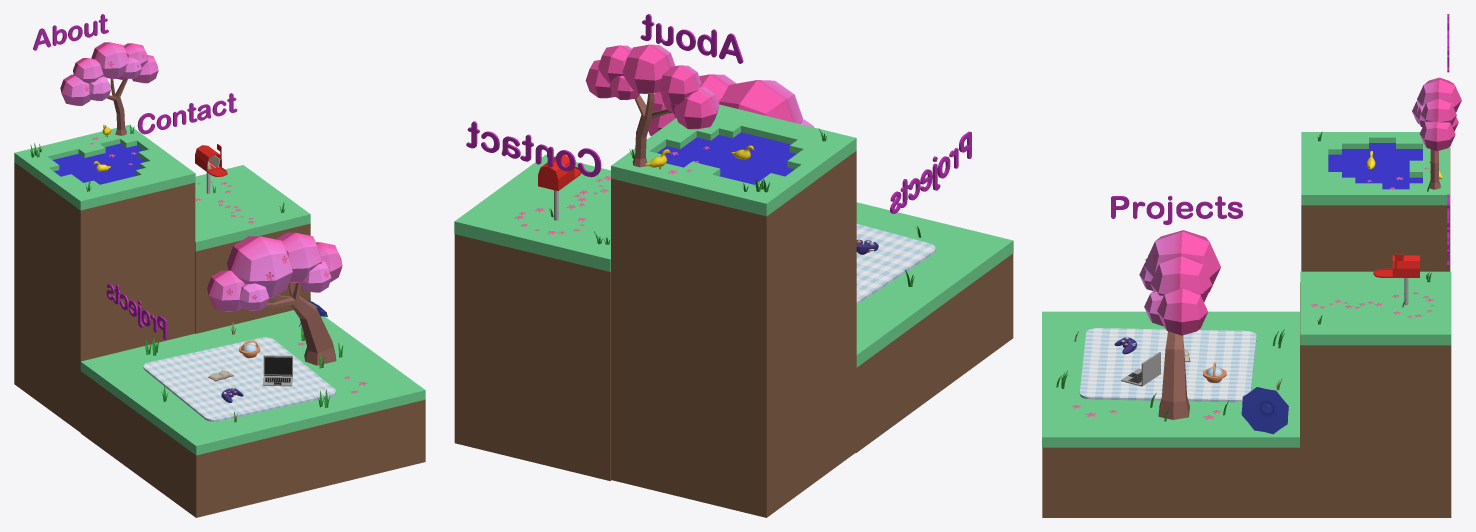
The model's file is newportfolio_v9-v1.glb.
3 renders of one model, left to right at view 1: azimuth 30°, elevation 25°; view 2: azimuth 150°, elevation 25°; view 3: azimuth 270°, elevation 25°, orthographic. The views are drawn at different scales.
Visible parts, largest first — view 1: Island_P, Blanket, Text_Contact_Raycast_Pointer_Hover, Text_Projects_Raycast_Pointer_Hover, Text_About_Raycaster_Pointer_Hover, Mailbox, Cube.002_Material.001_0; view 2: Island_P, Blanket, Text_Contact_Raycast_Pointer_Hover, Text_Projects_Raycast_Pointer_Hover, Text_About_Raycaster_Pointer_Hover, Mailbox; view 3: Island_P, Blanket, Cube_0, Text_Projects_Raycast_Pointer_Hover, Mailbox.
Boxes of the visible parts, bbox=[...] form: Island_P: bbox=[14, 42, 425, 517]; Blanket: bbox=[143, 337, 335, 421]; Text_Contact_Raycast_Pointer_Hover: bbox=[137, 93, 237, 134]; Text_Projects_Raycast_Pointer_Hover: bbox=[106, 284, 166, 339]; Text_About_Raycaster_Pointer_Hover: bbox=[33, 14, 108, 50]; Mailbox: bbox=[195, 144, 227, 193]; Cube.002_Material.001_0: bbox=[264, 357, 291, 374]; Island_P: bbox=[454, 44, 1013, 517]; Blanket: bbox=[856, 224, 935, 304]; Text_Contact_Raycast_Pointer_Hover: bbox=[466, 121, 601, 177]; Text_Projects_Raycast_Pointer_Hover: bbox=[890, 131, 971, 213]; Text_About_Raycaster_Pointer_Hover: bbox=[640, 14, 743, 63]; Mailbox: bbox=[538, 147, 581, 220]; Island_P: bbox=[1042, 77, 1461, 517]; Blanket: bbox=[1079, 328, 1256, 402]; Cube_0: bbox=[1241, 387, 1288, 434]; Text_Projects_Raycast_Pointer_Hover: bbox=[1111, 195, 1242, 224]; Mailbox: bbox=[1373, 254, 1419, 305].
Bounding box in the file's own units: 7.67 × 11.17 × 10.82.
Materials: 34 (4 with a texture image).
